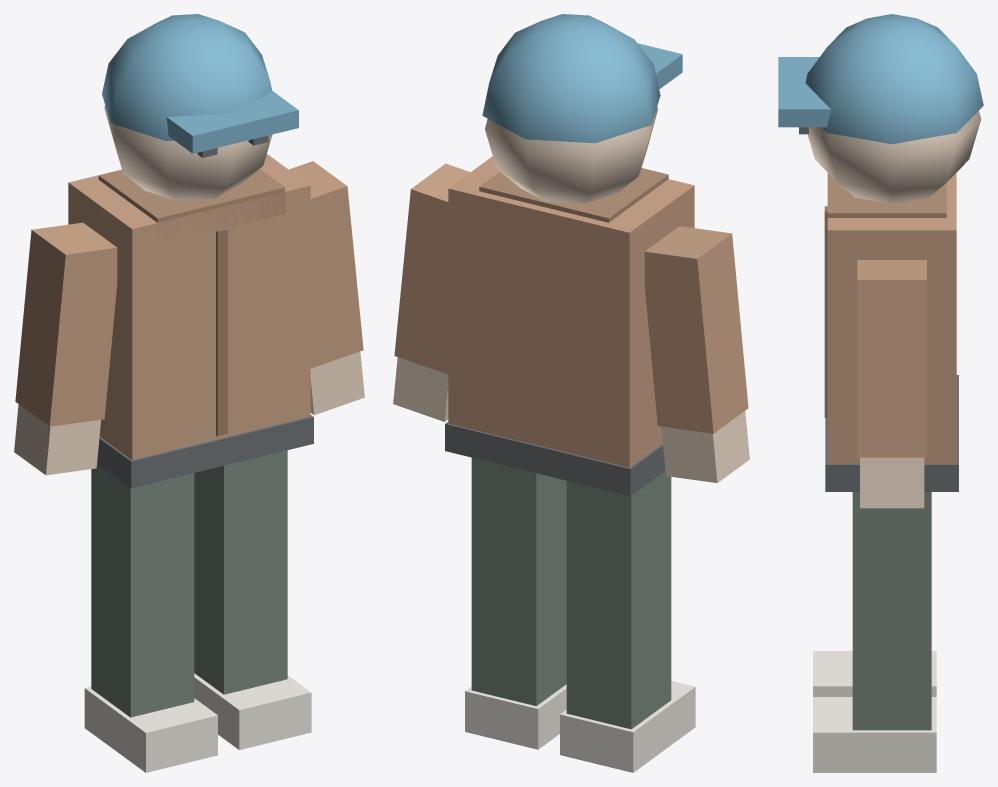
The model's file is actor_2.glb.
3 renders of one model, left to right at view 1: azimuth 30°, elevation 25°; view 2: azimuth 150°, elevation 25°; view 3: azimuth 270°, elevation 25°, orthographic.
Parts seen in each view (by area): view 1: pedestrian_2:cffffff, leg_0:cffffff, leg_1:cffffff, arm_0:cffffff, arm_1:cffffff; view 2: pedestrian_2:cffffff, leg_0:cffffff, leg_1:cffffff, arm_0:cffffff, arm_1:cffffff; view 3: pedestrian_2:cffffff, leg_1:cffffff, arm_1:cffffff, leg_0:cffffff.
Part boxes in pixels (left/top/right/bottom): pedestrian_2:cffffff: left=68, top=14, right=313, bottom=488; leg_0:cffffff: left=84, top=463, right=217, bottom=772; leg_1:cffffff: left=194, top=450, right=311, bottom=749; arm_0:cffffff: left=14, top=222, right=117, bottom=475; arm_1:cffffff: left=289, top=161, right=364, bottom=415; pedestrian_2:cffffff: left=445, top=14, right=694, bottom=496; leg_0:cffffff: left=560, top=471, right=695, bottom=772; leg_1:cffffff: left=465, top=457, right=566, bottom=749; arm_0:cffffff: left=644, top=226, right=749, bottom=483; arm_1:cffffff: left=393, top=163, right=470, bottom=421; pedestrian_2:cffffff: left=778, top=14, right=983, bottom=491; leg_1:cffffff: left=813, top=492, right=936, bottom=772; arm_1:cffffff: left=857, top=260, right=926, bottom=508; leg_0:cffffff: left=813, top=651, right=936, bottom=696.
Bounding box in the file's own units: 0.7512 × 1.58 × 0.415.
